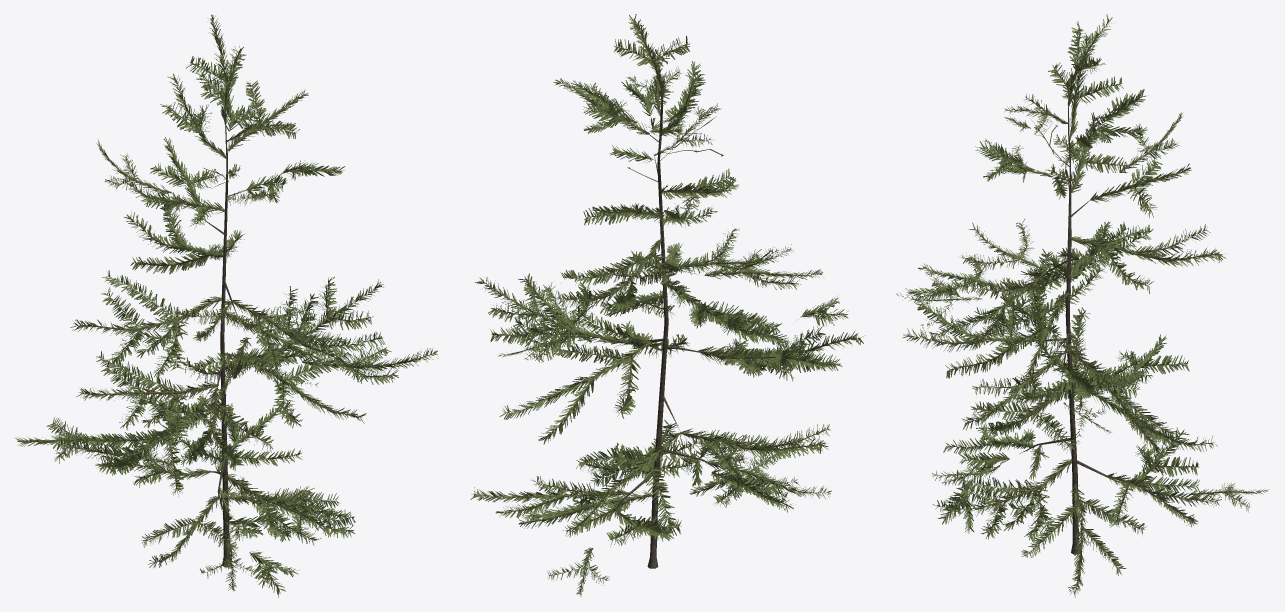
File: fir-a.glb
3 renders of one model, left to right at view 1: azimuth 30°, elevation 25°; view 2: azimuth 150°, elevation 25°; view 3: azimuth 270°, elevation 25°, orthographic. The views are drawn at different scales.
Parts seen in each view (by area): view 1: fir_sapling_a; view 2: fir_sapling_a; view 3: fir_sapling_a.
Part boxes in pixels (<box>): fir_sapling_a: <box>15,14,438,597</box>; fir_sapling_a: <box>470,14,865,596</box>; fir_sapling_a: <box>896,14,1268,597</box>.
Size of the model in its own units: 0.8605 by 1.3 by 0.8217.
2 materials, 2 textured.
